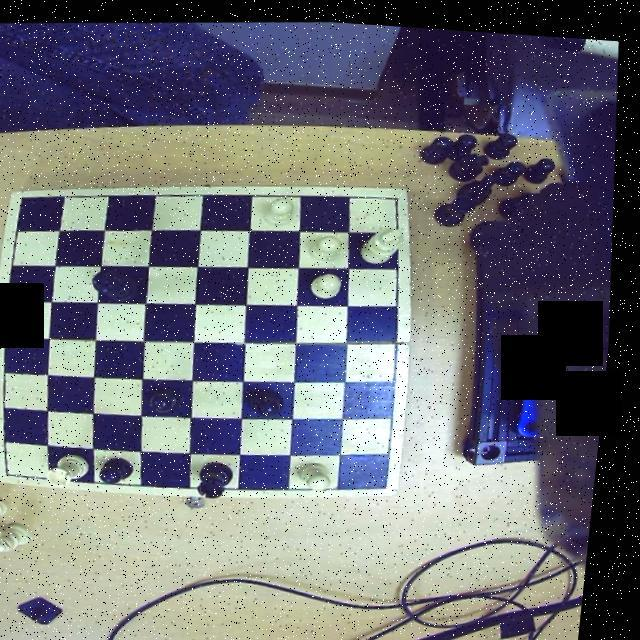chess-table-corners: (378, 464, 406, 488), (386, 182, 412, 205), (13, 188, 43, 206), (4, 459, 28, 479)
